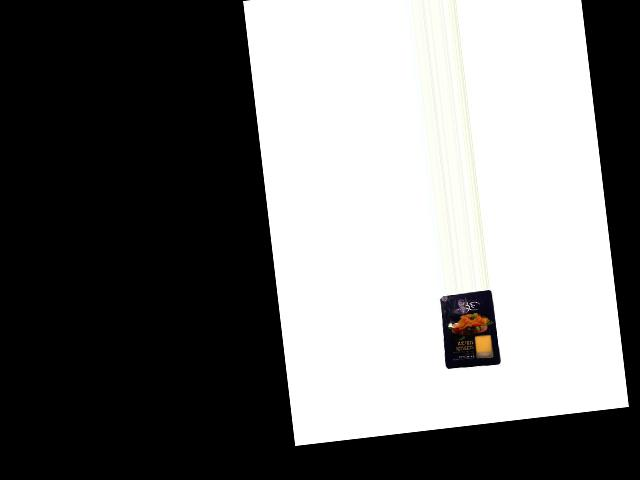cheese: (435, 289, 500, 370)
